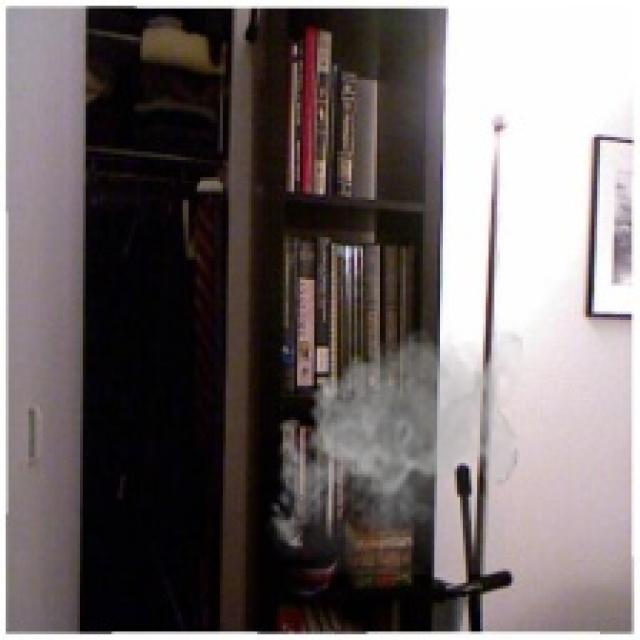smoke: (263, 320, 523, 574)
